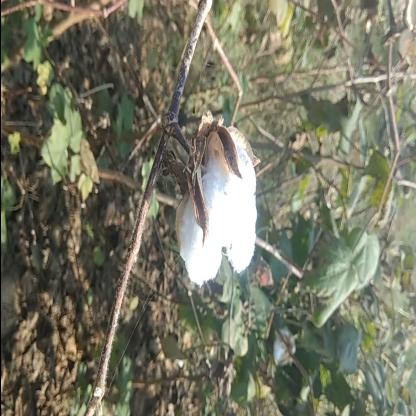cotton_ready: (136, 104, 274, 278)
